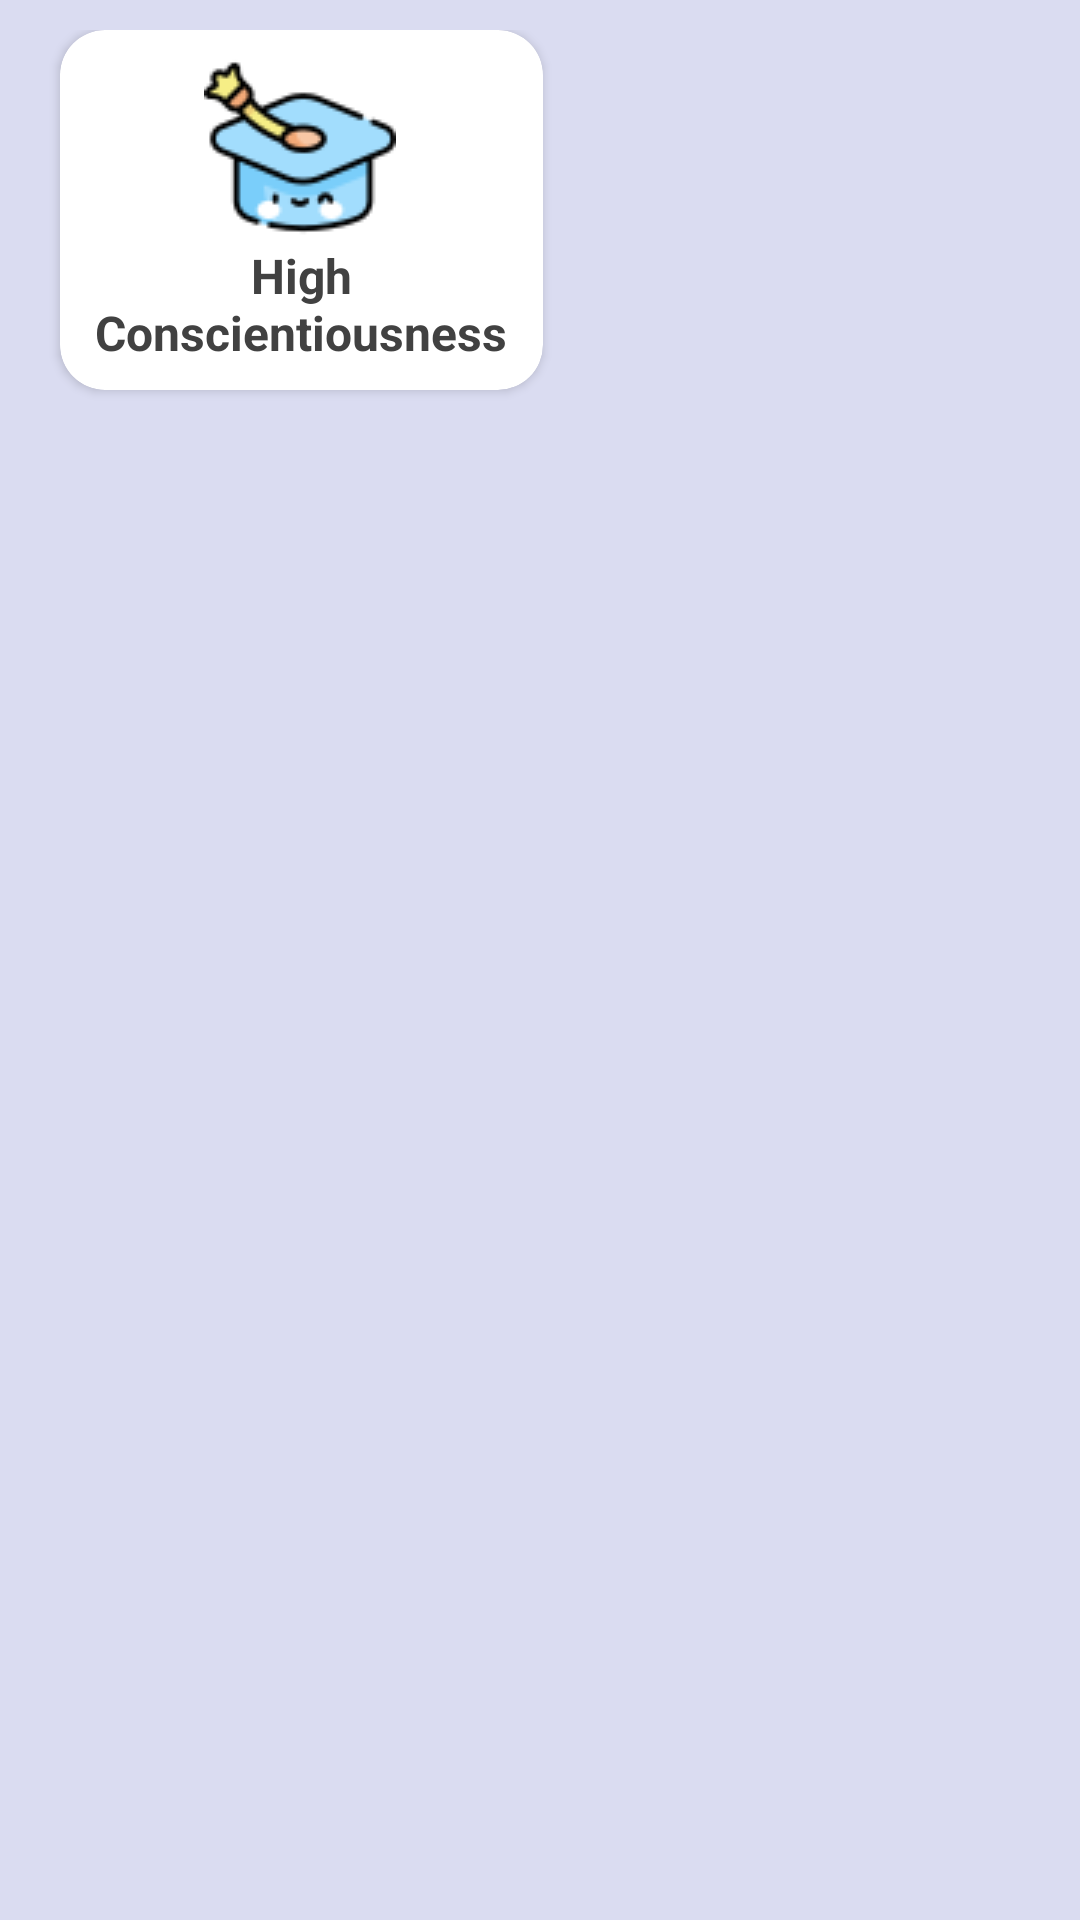

Icons on this 1080×1920 Android screen, each with its box as (x1, y1, x2, y2):
graduation cap: (204, 62, 396, 232)
